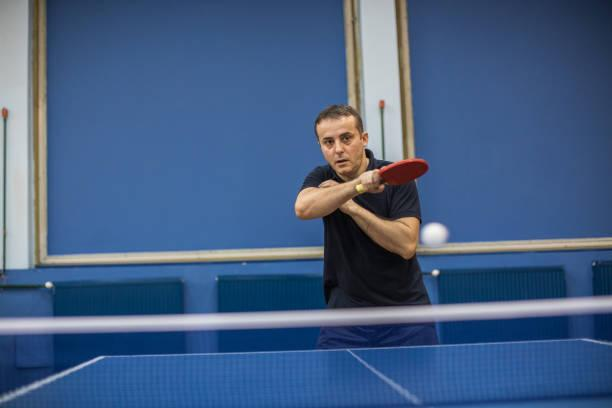ball_pingpong: (421, 217, 449, 249)
